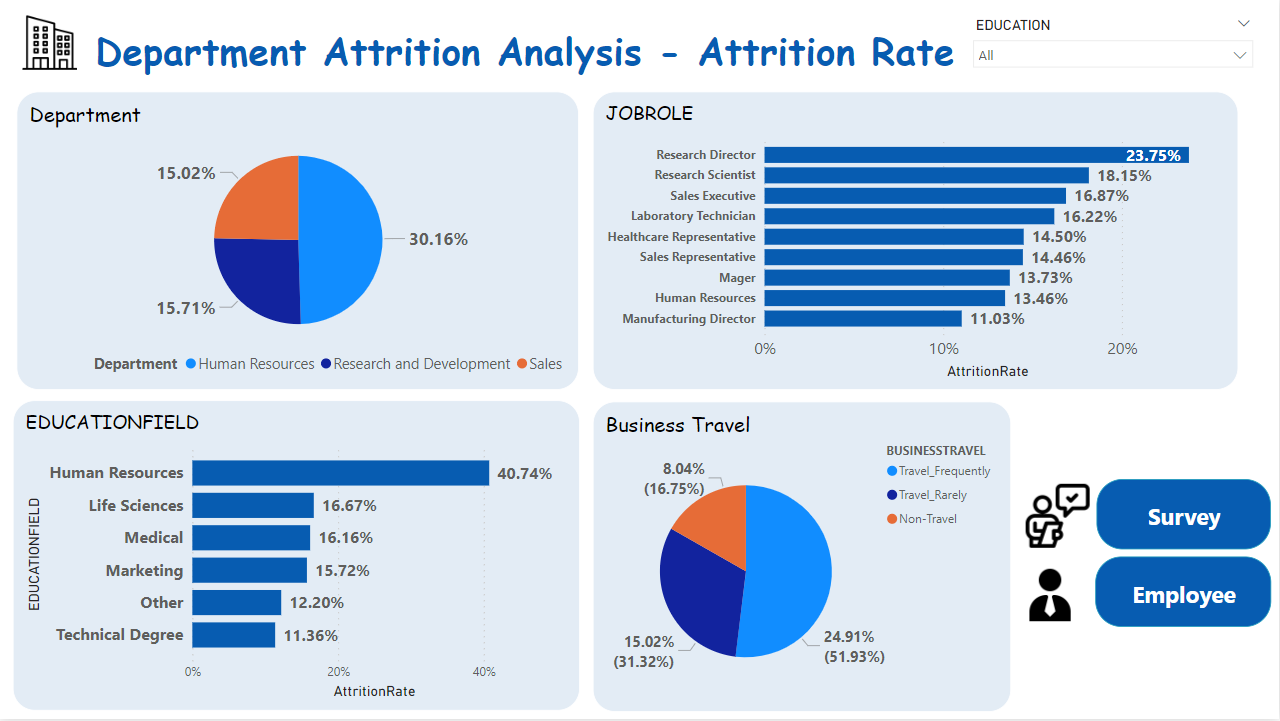

What the dashboard file says about the page in this screenshot:
{"tool":"powerbi","page":{"name":"Department","canvas":[1280,720],"ordinal":2},"visuals":[{"type":"textbox","box":[91.4,20,978.6,72.9],"z":0},{"type":"pieChart","title":"Department","fields":{"Y":["Measure_table.AttritionRate"],"Category":["Employee_Dim.DEPARTMENT"]},"box":[18,92,562,298],"z":1000},{"type":"image","box":[18.6,10,64.3,67.1],"z":2000},{"type":"image","box":[1016.9,549.7,70,92],"z":3000},{"type":"pieChart","title":"Business Travel","fields":{"Category":["Employee_Dim.BUSINESSTRAVEL"],"Y":["Measure_table.AttritionRate"]},"box":[593.8,402.5,418.8,310],"z":4000},{"type":"barChart","title":"EDUCATIONFIELD","fields":{"Category":["Employee_Dim.EDUCATIONFIELD"],"Y":["Measure_table.AttritionRate"]},"box":[14.3,401.4,567.1,310],"z":5000},{"type":"barChart","title":"JOBROLE","fields":{"Category":["Employee_Dim.JOBROLE"],"Y":["Measure_table.AttritionRate"]},"box":[594.3,92.9,645.7,298.6],"z":6000},{"type":"actionButton","box":[1095.7,557.7,176,70],"z":7000},{"type":"actionButton","box":[1097.7,479.7,174,70],"z":8000},{"type":"image","box":[1016.9,479.7,84,74],"z":9000},{"type":"slicer","fields":{"Values":["Employee_Dim.EDUCATION"]},"box":[964.3,12.9,300,78.6],"z":10000}]}

Visuals, with their boxes in screenshot pixels (x1, y1, x2, y2), scaled from the page's 1280x720 canvas onto the 1280x721 screenshot:
textbox: (91, 20, 1070, 93)
"Department" pieChart: (18, 92, 580, 391)
image: (19, 10, 83, 77)
image: (1017, 550, 1087, 643)
"Business Travel" pieChart: (594, 403, 1013, 713)
"EDUCATIONFIELD" barChart: (14, 402, 581, 712)
"JOBROLE" barChart: (594, 93, 1240, 392)
actionButton: (1096, 558, 1272, 629)
actionButton: (1098, 480, 1272, 550)
image: (1017, 480, 1101, 554)
slicer - Employee_Dim.EDUCATION: (964, 13, 1264, 92)
